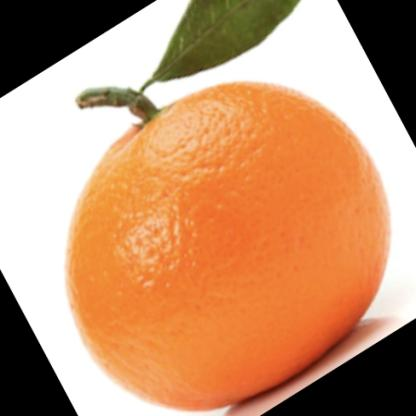fresh: (67, 80, 390, 407)
